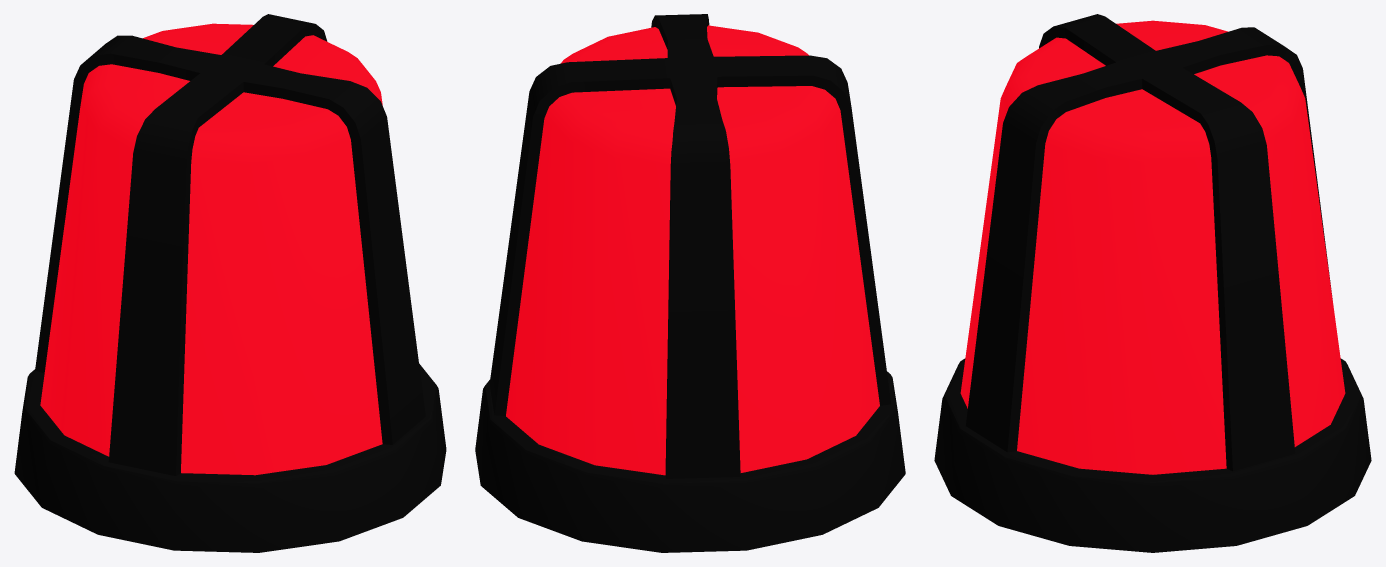
The model's file is emergency light.fbx.
3 views of the same model, side by side, from view 1: azimuth 30°, elevation 25°; view 2: azimuth 150°, elevation 25°; view 3: azimuth 270°, elevation 25° (orthographic).
Visible parts, largest first — view 1: Cylinder; view 2: Cylinder; view 3: Cylinder.
Boxes of the visible parts, x1=… form: Cylinder: x1=14, y1=14, x2=446, y2=552; Cylinder: x1=475, y1=14, x2=905, y2=552; Cylinder: x1=934, y1=14, x2=1371, y2=552.
Size of the model in its own units: 200 by 200 by 200.
